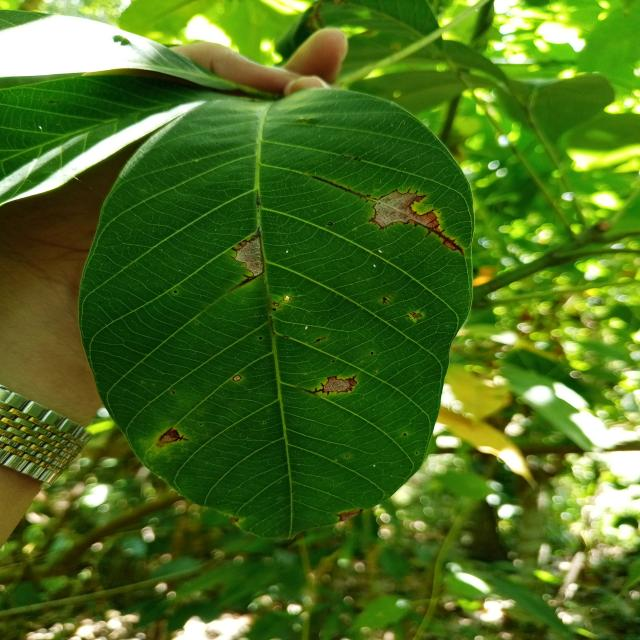Colletotrichum: (233, 375, 242, 381), (328, 221, 333, 226), (345, 454, 350, 458), (174, 290, 178, 294), (259, 336, 262, 339), (273, 308, 276, 311), (371, 352, 374, 354), (332, 360, 335, 362)
Corynespora: (311, 175, 378, 203), (414, 221, 464, 255), (297, 374, 358, 395), (228, 272, 264, 292), (159, 427, 189, 441), (298, 382, 325, 395), (313, 336, 327, 344), (382, 297, 392, 305)
Leaf-Blight: (374, 192, 438, 226), (234, 237, 263, 276), (324, 377, 355, 392), (338, 509, 362, 522), (156, 436, 177, 447)
